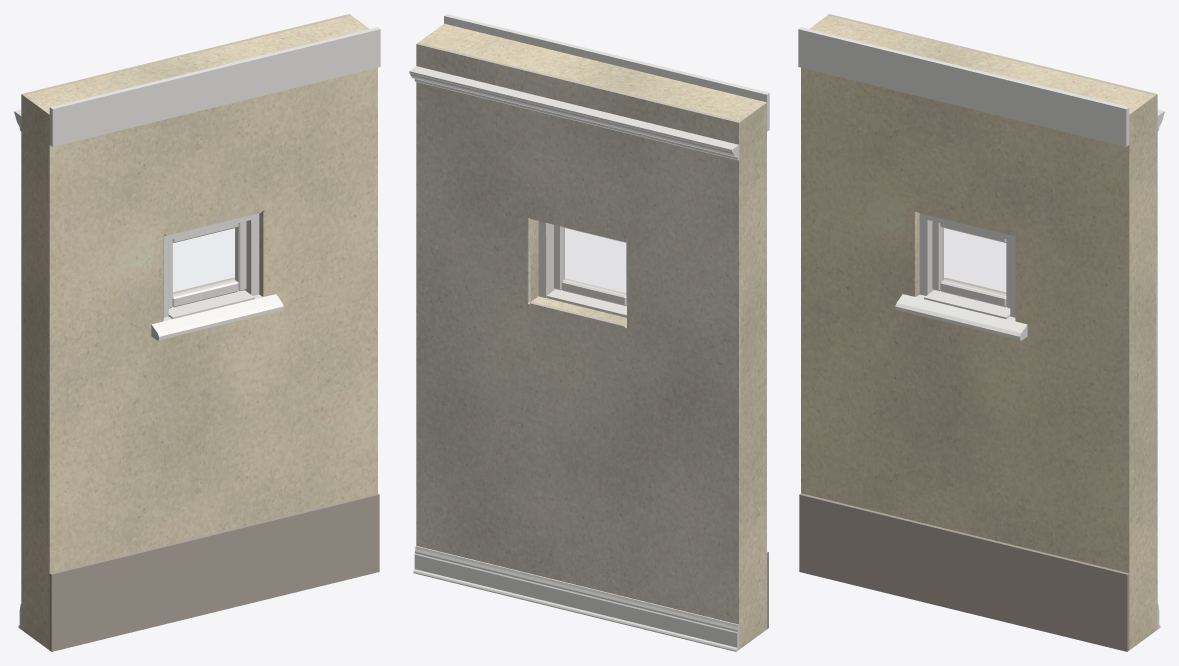
File: wall_back_small.glb
3 views of the same model, side by side, from view 1: azimuth 30°, elevation 25°; view 2: azimuth 150°, elevation 25°; view 3: azimuth 330°, elevation 25° (orthographic).
Visible parts, largest first — view 1: wall_back_small_stucco, wall_back_small_plinth, wall_back_small_trim, wall_back_small_glass, wall_back_small_plaster, wall_back_small_sash, wall_back_small_frame; view 2: wall_back_small_plaster, wall_back_small_stucco, molduras, wall_back_small_trim, wall_back_small_glass, wall_back_small_sash, wall_back_small_frame; view 3: wall_back_small_stucco, wall_back_small_plinth, wall_back_small_trim, wall_back_small_glass, wall_back_small_plaster, wall_back_small_sash, wall_back_small_frame.
Boxes of the visible parts, box(x1,y1,x2,y2) form: wall_back_small_stucco: box(23, 15, 377, 650); wall_back_small_plinth: box(49, 493, 379, 651); wall_back_small_trim: box(49, 27, 380, 340); wall_back_small_glass: box(173, 228, 236, 294); wall_back_small_plaster: box(21, 14, 350, 630); wall_back_small_sash: box(168, 221, 246, 308); wall_back_small_frame: box(163, 213, 259, 317); wall_back_small_plaster: box(416, 43, 740, 649); wall_back_small_stucco: box(418, 23, 766, 647); molduras: box(409, 66, 738, 651); wall_back_small_trim: box(444, 14, 769, 317); wall_back_small_glass: box(564, 228, 625, 293); wall_back_small_sash: box(554, 224, 626, 305); wall_back_small_frame: box(538, 221, 555, 297); wall_back_small_stucco: box(801, 15, 1155, 650); wall_back_small_plinth: box(799, 493, 1129, 651); wall_back_small_trim: box(798, 27, 1129, 340); wall_back_small_glass: box(942, 228, 1005, 294); wall_back_small_plaster: box(828, 14, 1157, 630); wall_back_small_sash: box(932, 221, 1010, 308); wall_back_small_frame: box(919, 213, 1015, 317).
Bounding box in the file's own units: 2 × 3.16 × 0.455.
Materials: 7 (2 with a texture image).
